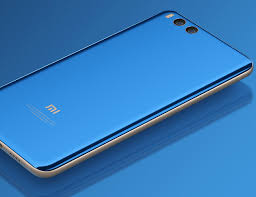mi: (2, 8, 250, 174)
